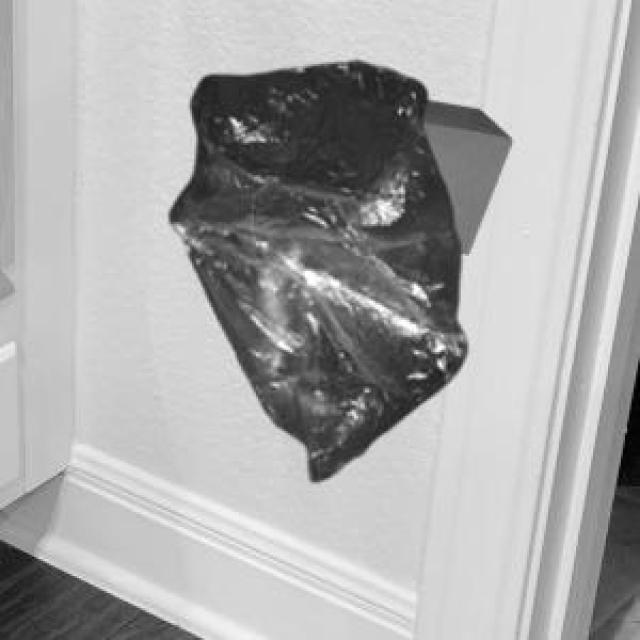paper: (418, 96, 508, 250)
